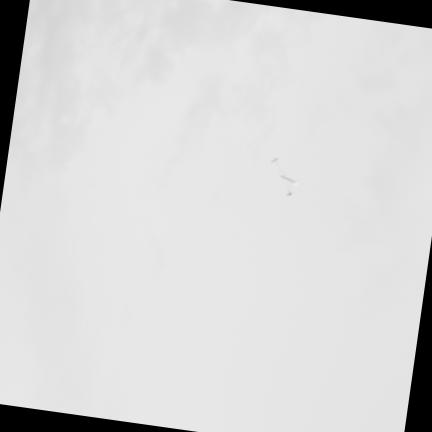Shahed: (275, 162, 295, 195)
